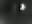person: (13, 3, 19, 16), (21, 3, 27, 15)
